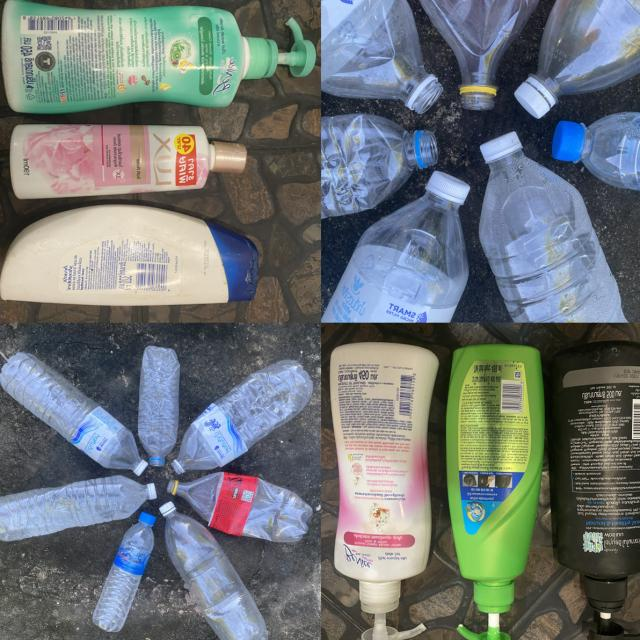plastik: (2, 0, 316, 113), (330, 343, 438, 640), (446, 346, 544, 640), (479, 132, 626, 323), (549, 341, 640, 640), (0, 207, 258, 305), (322, 171, 470, 323), (0, 353, 148, 476), (11, 125, 247, 198), (172, 360, 313, 474), (514, 0, 640, 119), (160, 502, 267, 640), (321, 0, 443, 113), (419, 0, 539, 111), (321, 114, 438, 218), (167, 472, 312, 543), (0, 476, 155, 541), (93, 512, 156, 631), (552, 112, 640, 190), (139, 346, 180, 466)
